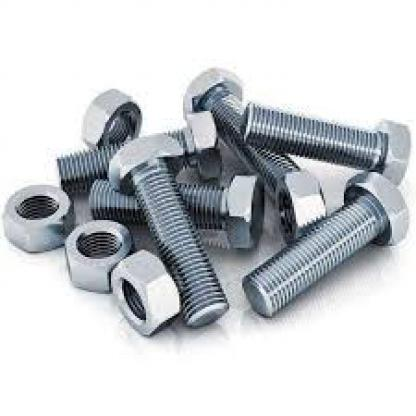METAL: (240, 168, 407, 318), (106, 131, 228, 329), (179, 65, 320, 196), (238, 96, 408, 185), (44, 107, 226, 189), (87, 172, 262, 251), (107, 246, 178, 335), (63, 216, 133, 292), (2, 183, 70, 253), (74, 87, 142, 146), (274, 174, 326, 246)
